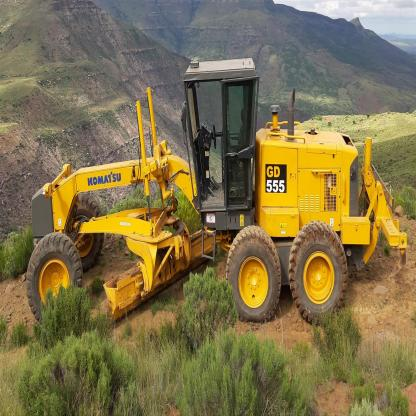bull_dozer/loader/grader: (21, 41, 410, 362)
